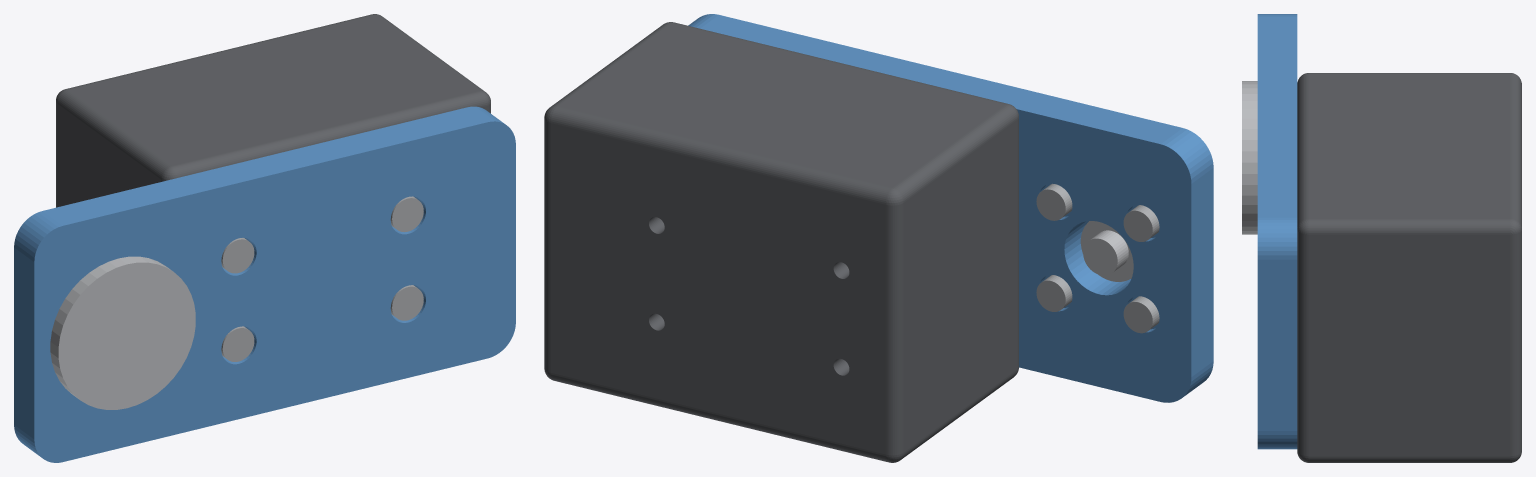
File: coxa.glb
3 renders of one model, left to right at view 1: azimuth 30°, elevation 25°; view 2: azimuth 150°, elevation 25°; view 3: azimuth 270°, elevation 25°, orthographic. The views are drawn at different scales.
Visible parts, largest first — view 1: geometry_10, geometry_1, geometry_0, geometry_7, geometry_8, geometry_9, geometry_6; view 2: geometry_1, geometry_10, geometry_0, geometry_4, geometry_3, geometry_2, geometry_5; view 3: geometry_1, geometry_10, geometry_0.
Part boxes in pixels (box(x1,y1,x2,y2)): geometry_10: box(14, 106, 515, 462); geometry_1: box(56, 14, 490, 207); geometry_0: box(50, 256, 195, 409); geometry_7: box(390, 285, 423, 320); geometry_8: box(221, 238, 254, 273); geometry_9: box(221, 326, 254, 361); geometry_6: box(390, 196, 423, 232); geometry_1: box(544, 22, 1018, 462); geometry_10: box(688, 14, 1213, 402); geometry_0: box(1080, 221, 1133, 281); geometry_4: box(1123, 296, 1159, 333); geometry_3: box(1123, 205, 1159, 241); geometry_2: box(1036, 183, 1072, 220); geometry_5: box(1036, 275, 1072, 311); geometry_1: box(1297, 73, 1521, 462); geometry_10: box(1257, 14, 1297, 449); geometry_0: box(1242, 81, 1257, 234).
Size of the model in its own units: 0.0682 by 0.034 by 0.0355.
